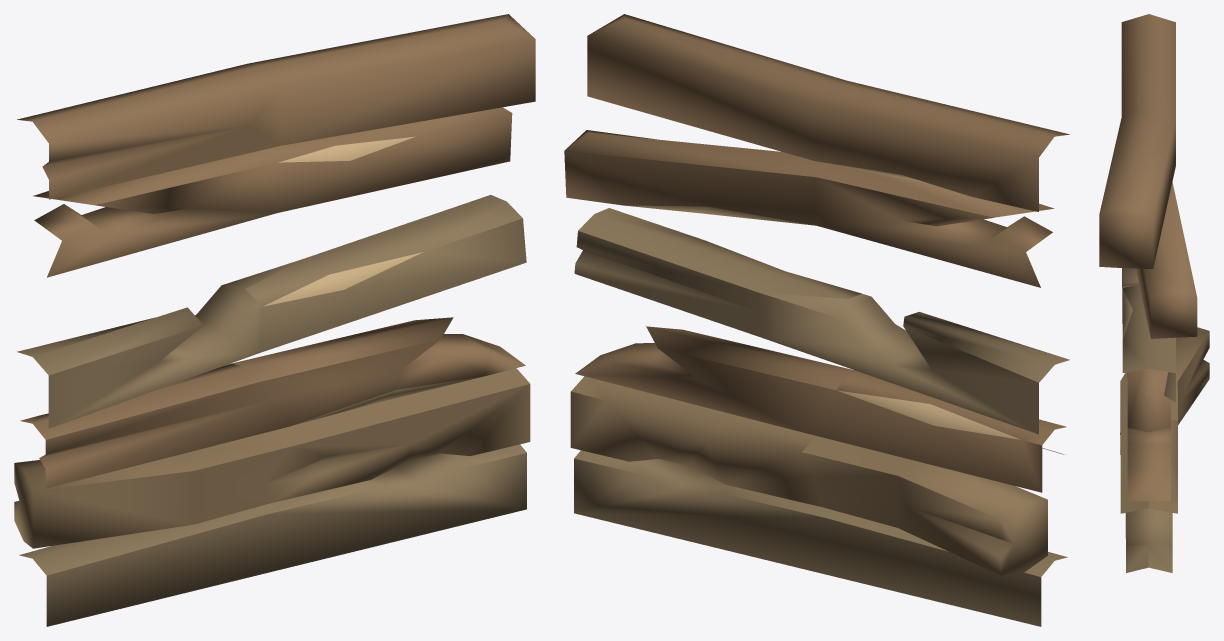
The model's file is rpgpp_av_wall_01_3x3_d.gltf.
3 views of the same model, side by side, from view 1: azimuth 30°, elevation 25°; view 2: azimuth 150°, elevation 25°; view 3: azimuth 270°, elevation 25° (orthographic). The views are drawn at different scales.
Visible parts, largest first — view 1: rpgpp_av_wall_01_3x3_d; view 2: rpgpp_av_wall_01_3x3_d; view 3: rpgpp_av_wall_01_3x3_d.
Part boxes in pixels (box(x1,y1,x2,y2)): rpgpp_av_wall_01_3x3_d: box(14, 14, 535, 626); rpgpp_av_wall_01_3x3_d: box(564, 14, 1069, 626); rpgpp_av_wall_01_3x3_d: box(1099, 14, 1209, 572).
Size of the model in its own units: 0.03 by 0.03 by 0.00719.
1 material, 1 textured.
